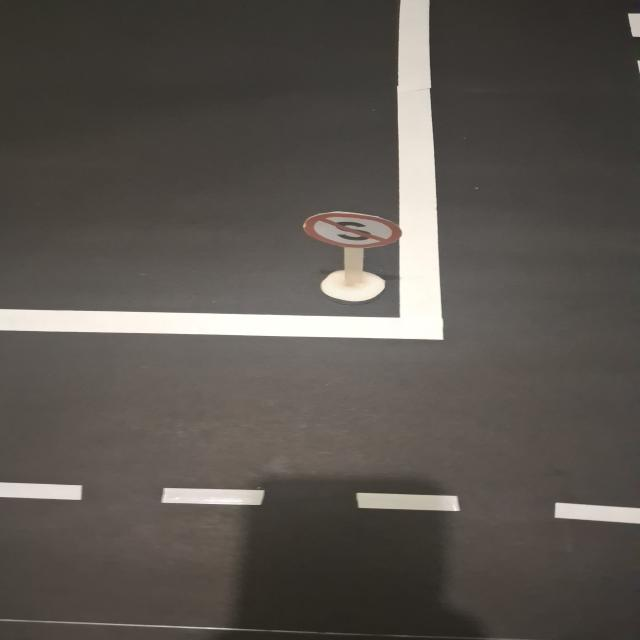Rambu Berhenti: (303, 213, 402, 248)
